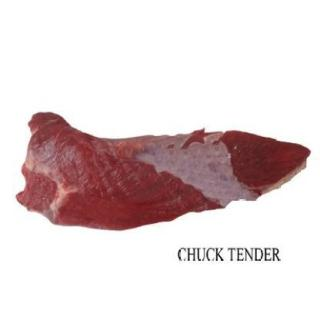Daging Sapi: (21, 114, 310, 234)
